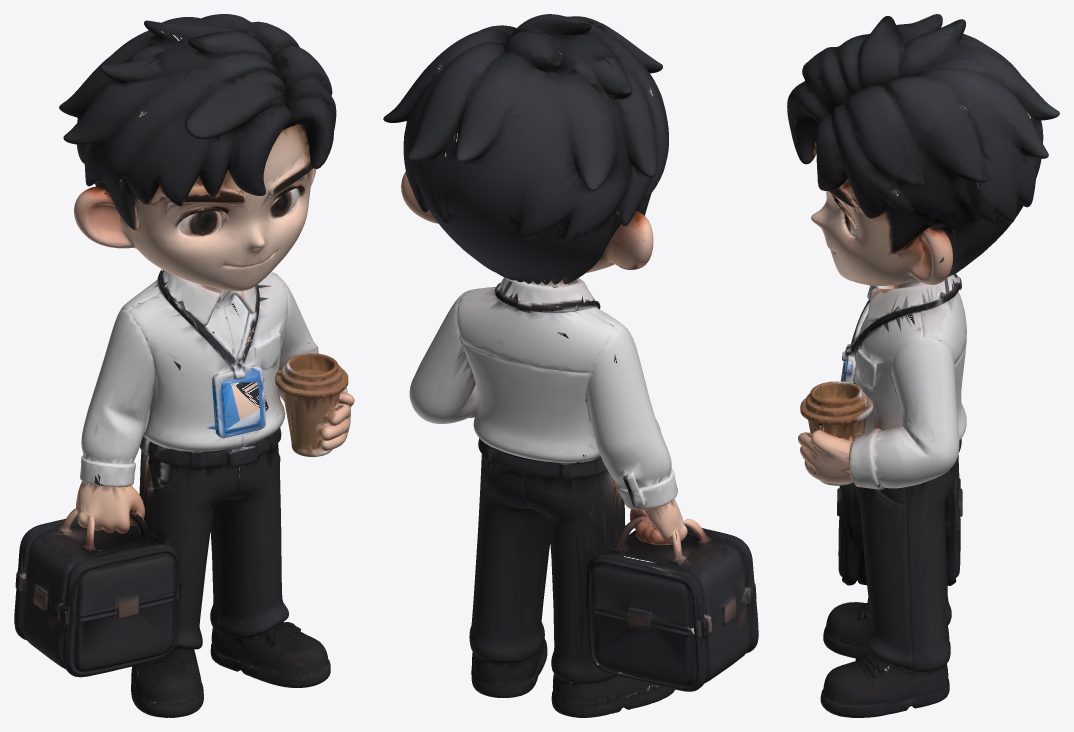
The model's file is char-worker.glb.
3 renders of one model, left to right at view 1: azimuth 30°, elevation 25°; view 2: azimuth 150°, elevation 25°; view 3: azimuth 270°, elevation 25°, orthographic. The views are drawn at different scales.
Visible parts, largest first — view 1: node_0; view 2: node_0; view 3: node_0.
Part boxes in pixels (x1,y1,x2,y2): node_0: (14, 14, 354, 717); node_0: (383, 14, 758, 717); node_0: (787, 14, 1059, 717).
Bounding box in the file's own units: 0.3008 × 0.6221 × 0.2382.
Materials: 1 (1 with a texture image).
